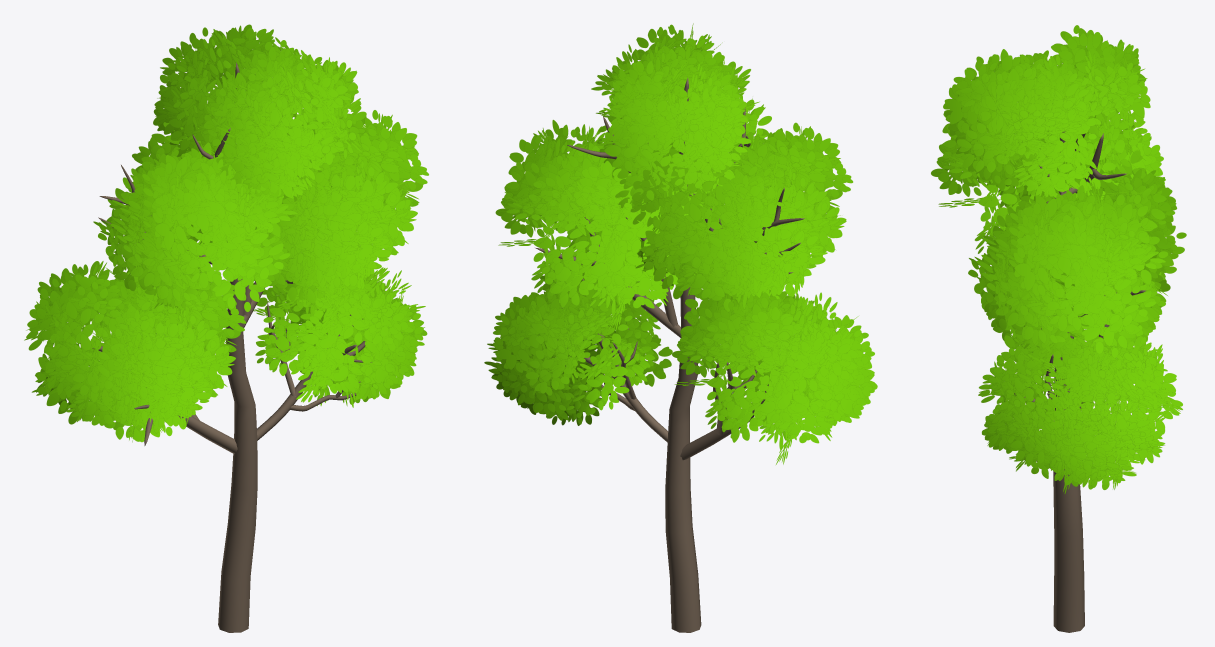
The model's file is normaltree-2.glb.
The picture shows the model from 3 angles, left to right: view 1: azimuth 30°, elevation 25°; view 2: azimuth 150°, elevation 25°; view 3: azimuth 270°, elevation 25°; orthographic projection. The views are drawn at different scales.
Visible parts, largest first — view 1: NormalTree_2; view 2: NormalTree_2; view 3: NormalTree_2.
Boxes of the visible parts, box(x1,y1,x2,y2) form: NormalTree_2: box(24, 24, 428, 632); NormalTree_2: box(484, 23, 877, 632); NormalTree_2: box(931, 25, 1186, 632).
Bounding box in the file's own units: 4.55 × 6.56 × 2.79.
Materials: 2 (1 with a texture image).
